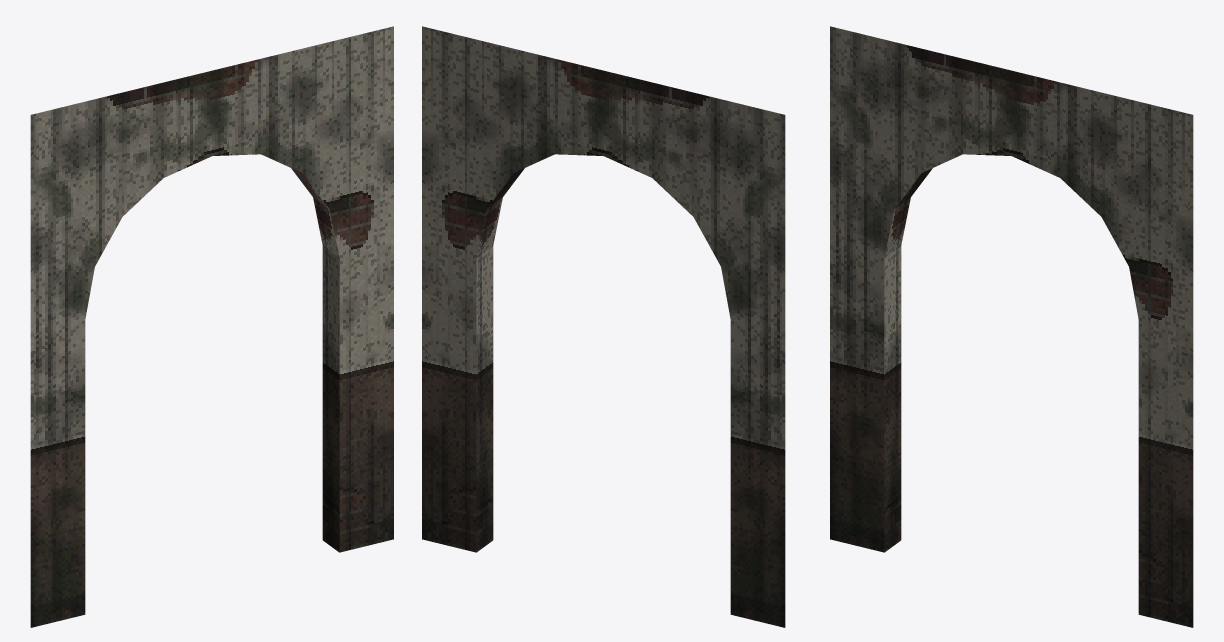
The model's file is int_arch.gltf.
The picture shows the model from 3 angles, left to right: view 1: azimuth 30°, elevation 25°; view 2: azimuth 150°, elevation 25°; view 3: azimuth 330°, elevation 25°; orthographic projection.
Parts seen in each view (by area): view 1: int_arch; view 2: int_arch; view 3: int_arch.
Part boxes in pixels (x1,y1,x2,y2): int_arch: (30,26,393,627); int_arch: (422,26,785,627); int_arch: (830,26,1193,627).
Size of what is drawn, in the model's own units: 2 by 2.7 by 0.16.
1 material, 1 textured.
